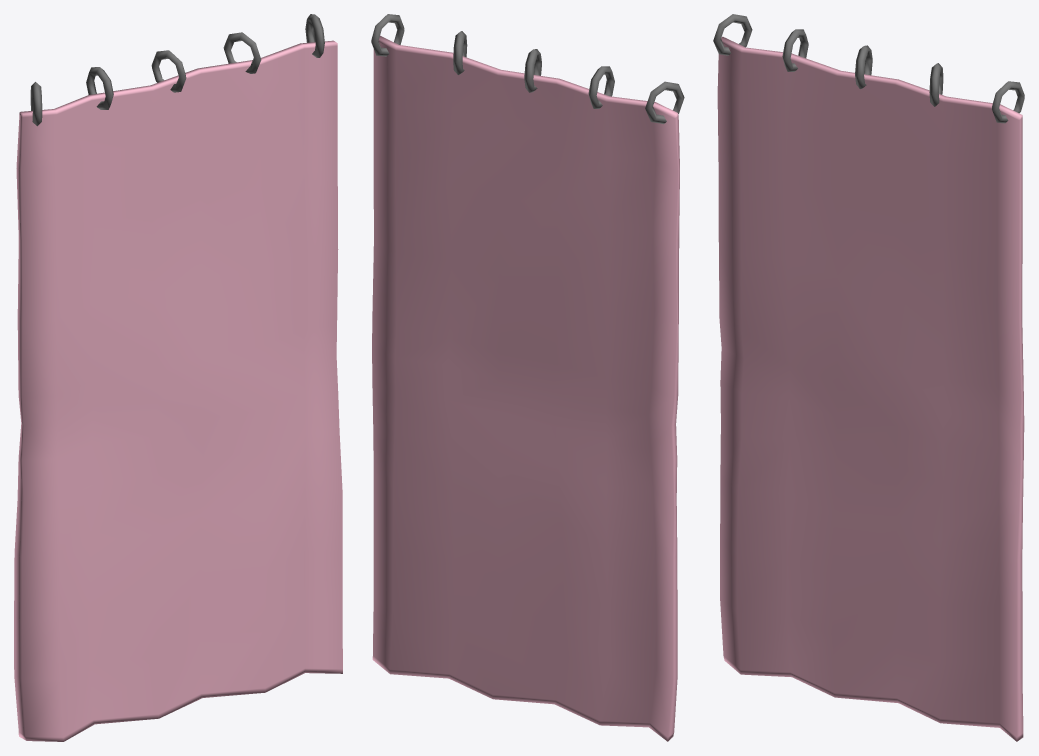
The model's file is curtain_009.fbx.
The picture shows the model from 3 angles, left to right: view 1: azimuth 30°, elevation 25°; view 2: azimuth 150°, elevation 25°; view 3: azimuth 330°, elevation 25°; orthographic projection.
Visible parts, largest first — view 1: curtain_009; view 2: curtain_009; view 3: curtain_009.
Part boxes in pixels (x1,y1,x2,y2): curtain_009: [14, 14, 342, 741]; curtain_009: [371, 14, 684, 741]; curtain_009: [713, 14, 1024, 741].
Bounding box in the file's own units: 174 × 22.83 × 348.
